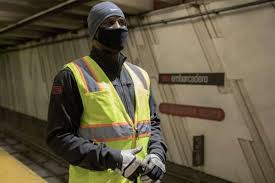mask: (89, 6, 130, 51)
